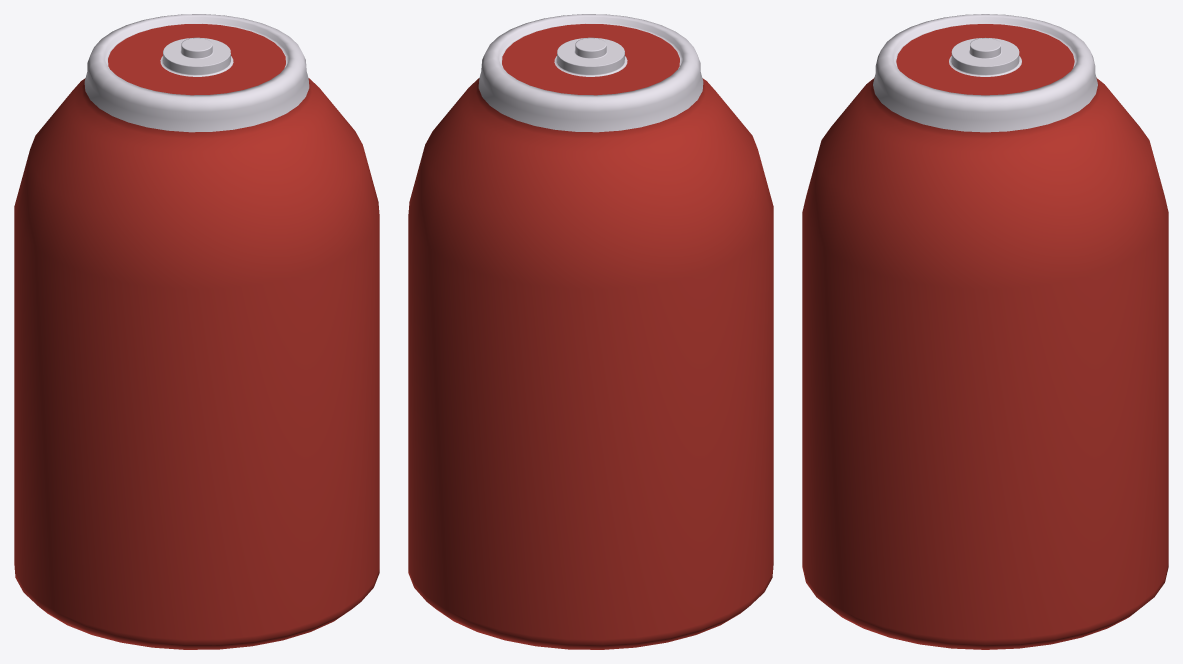
File: GasBottle_v2.gltf
The picture shows the model from 3 angles, left to right: view 1: azimuth 30°, elevation 25°; view 2: azimuth 150°, elevation 25°; view 3: azimuth 270°, elevation 25°; orthographic projection.
Parts seen in each view (by area): view 1: GasBottle_v2; view 2: GasBottle_v2; view 3: GasBottle_v2.
Boxes of the visible parts, x1=… form: GasBottle_v2: x1=14, y1=14, x2=379, y2=649; GasBottle_v2: x1=408, y1=14, x2=773, y2=649; GasBottle_v2: x1=802, y1=14, x2=1168, y2=649.
Size of the model in its own units: 0.5971 by 0.9584 by 0.5971.
